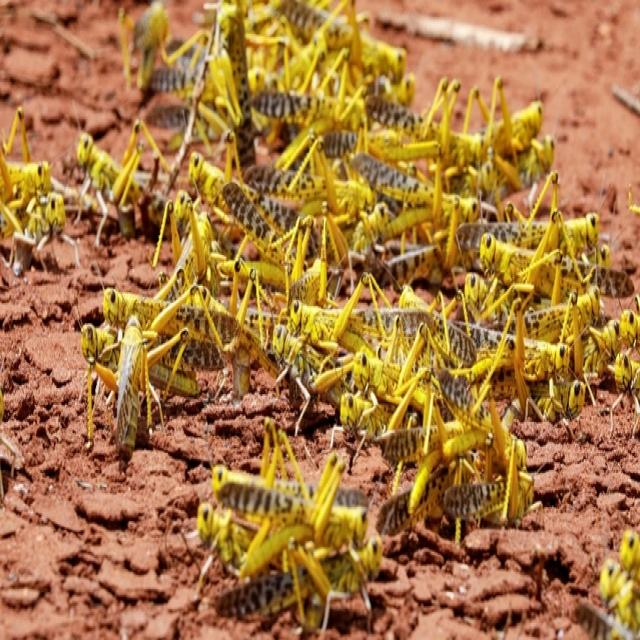ZhaMeng: (103, 286, 241, 352), (114, 309, 152, 460)
